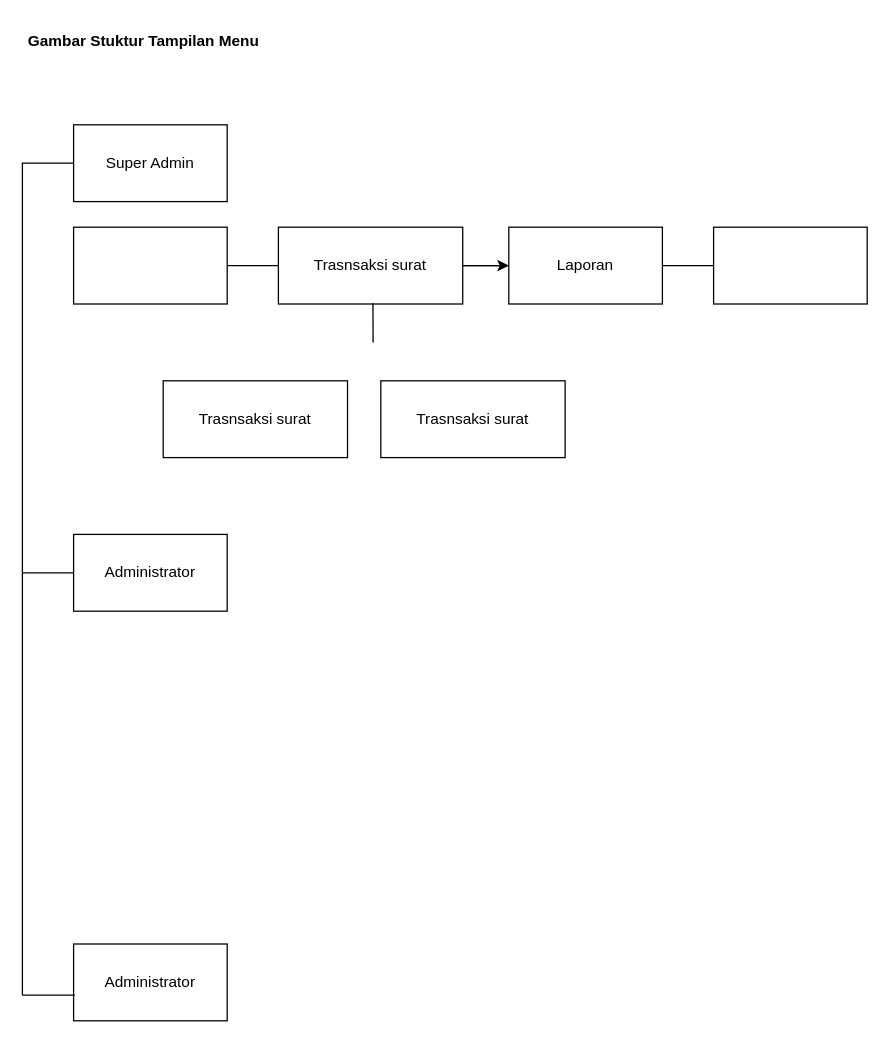
Image size: 890x1043. Some labels were removed from this diagram. The shapes that lost their labels are listed below. From the top down, each one's centre as x and y in pixels, then its label:
[149,265]: Beranda
[789,265]: Pengaturan
